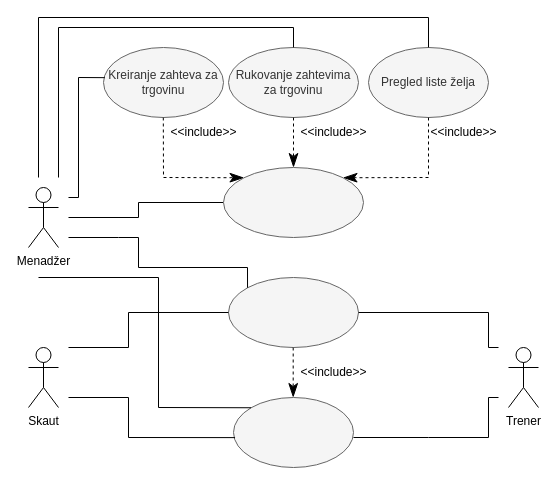
Image size: 558x485. Some labels were removed from this diagram. Each missing label, with the box of its shape:
Pregled stranice za rukovanje zahtevima za trgovinu: (222, 166, 364, 238)
Pregled table o novostima: (232, 396, 354, 468)
Pretraga obaveštenja na tabli o novostima: (228, 276, 358, 348)
